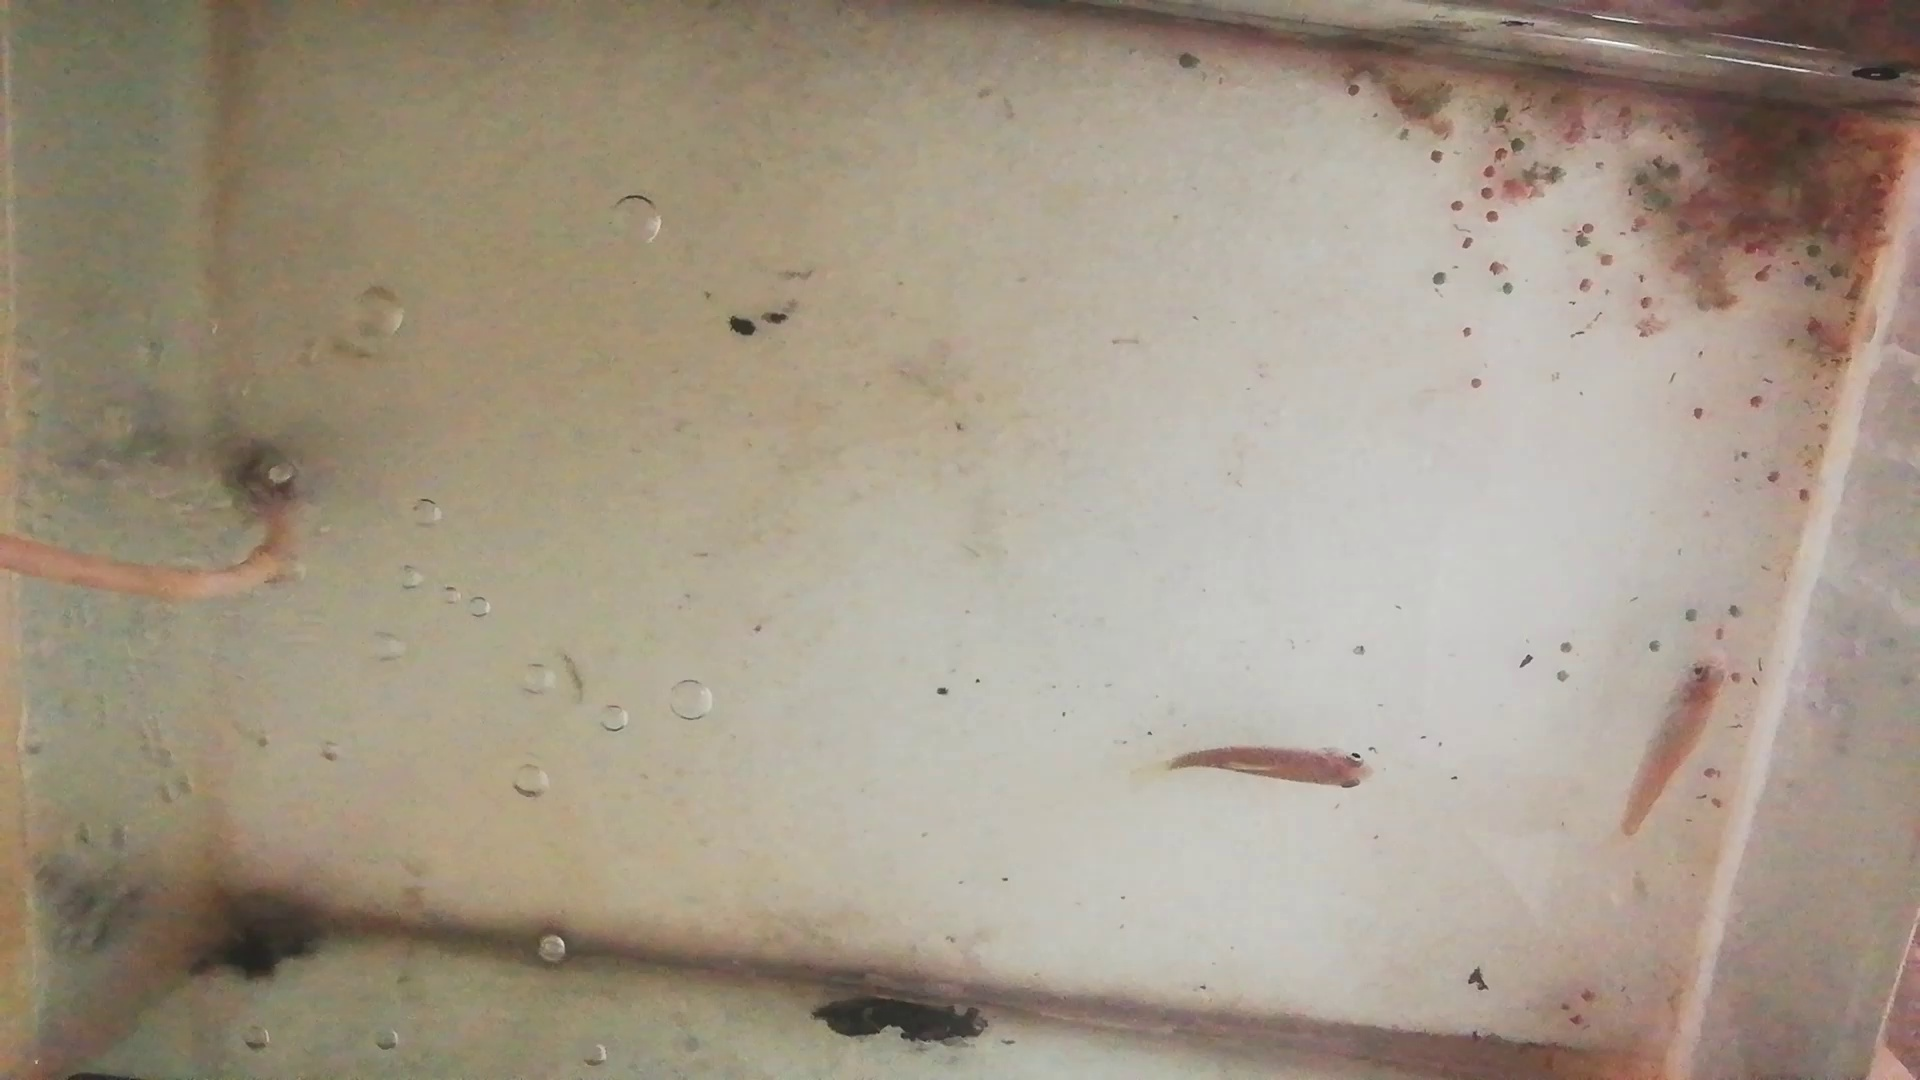fish: (1622, 647, 1729, 836), (1170, 742, 1379, 796)
